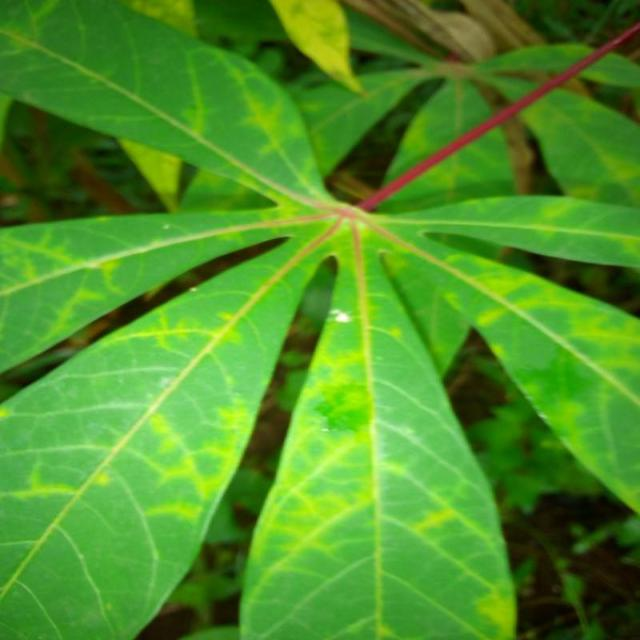cassava leaf: (0, 0, 639, 639), (0, 208, 316, 639), (237, 222, 518, 639)
